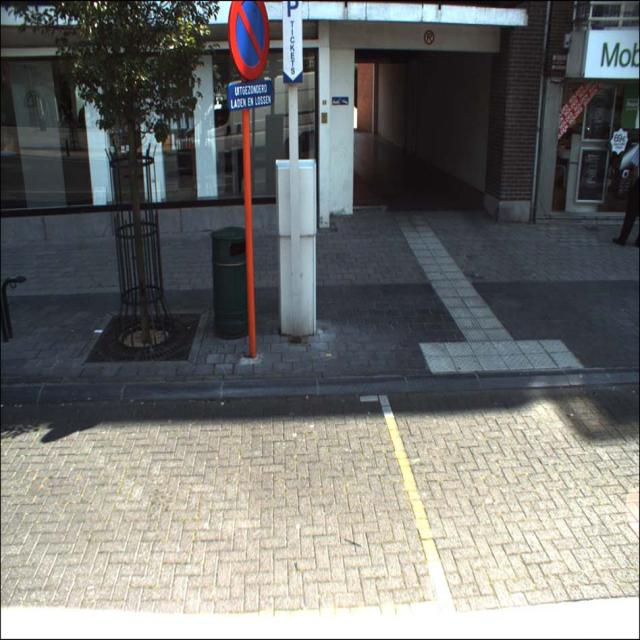parkyasak: (229, 3, 269, 79)
